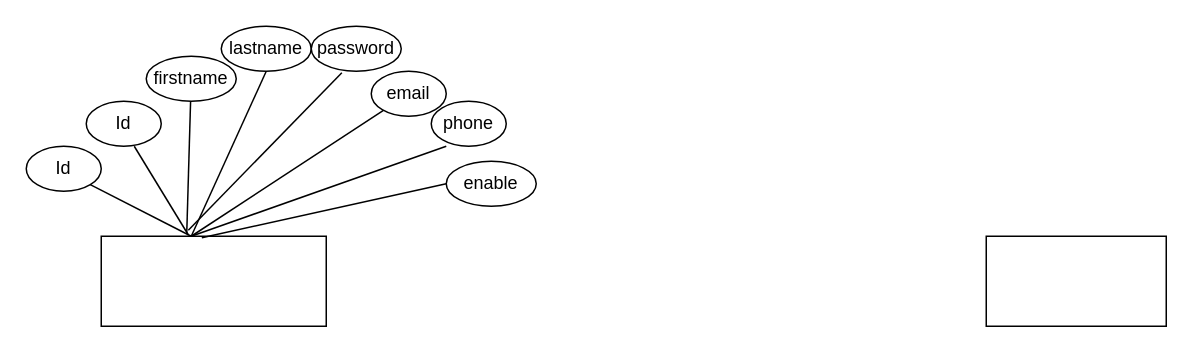
This 1193x353 diagram has some shape labels left out. Here are the shapes that lost their labels. From the top down, the centre of each, then its label:
At point (213, 280): "User".
At point (1075, 280): "Role".
